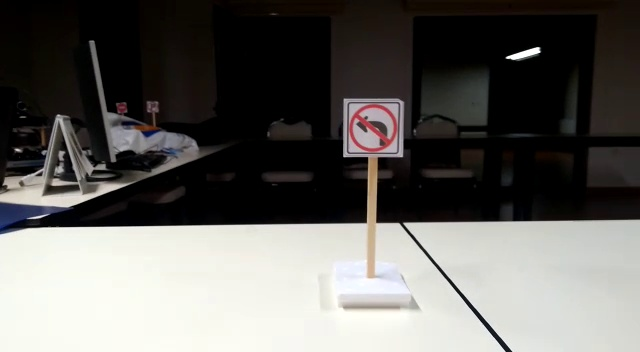sola_donulmez: (347, 99, 403, 157)
